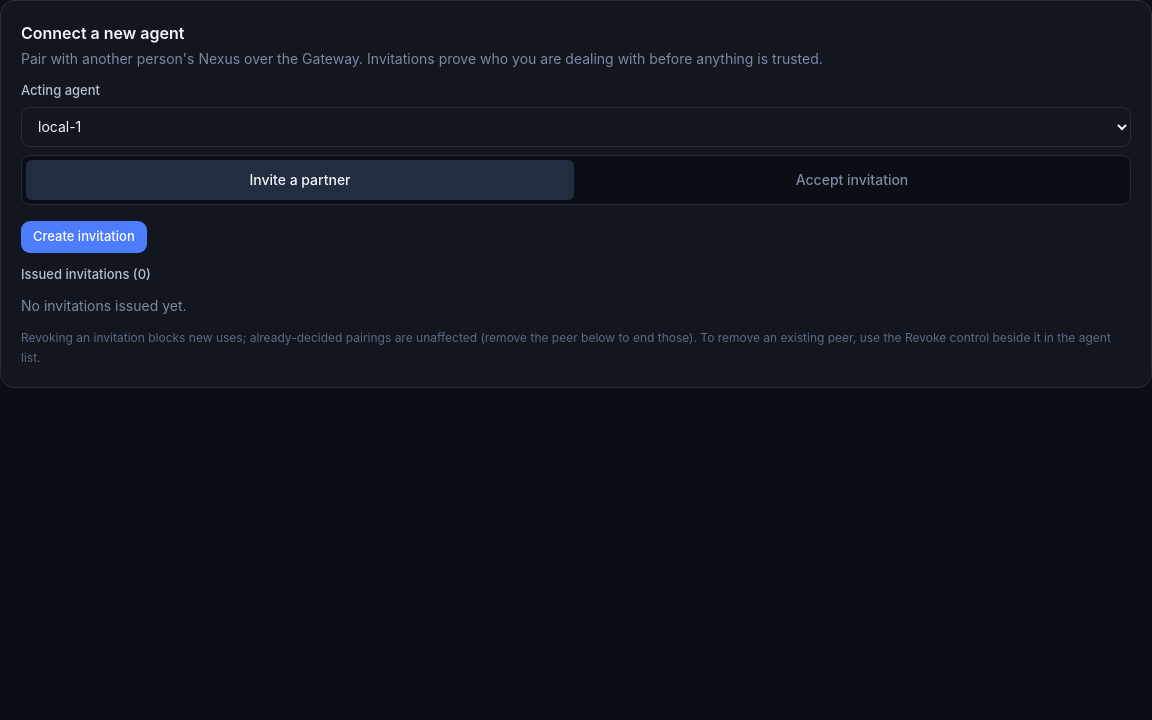
it: ConnectAgentPanel › validates an invitation and shows the identity preview
This screenshot has width=1152, height=720.
Click the tab "Accept invitation". click: click(852, 180)
box: [578,160,1126,200]
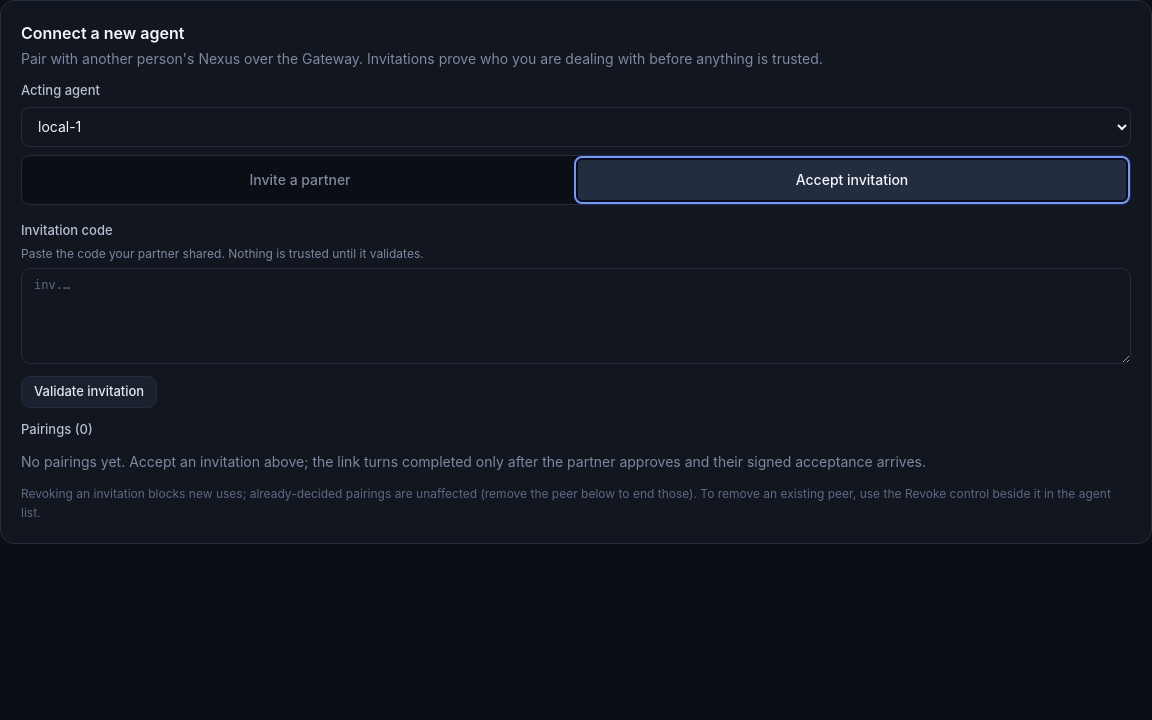
Type "inv.code.secret" into the text box with placeholder "Invitation code". click: (576, 316)
box: [21,268,1131,364]
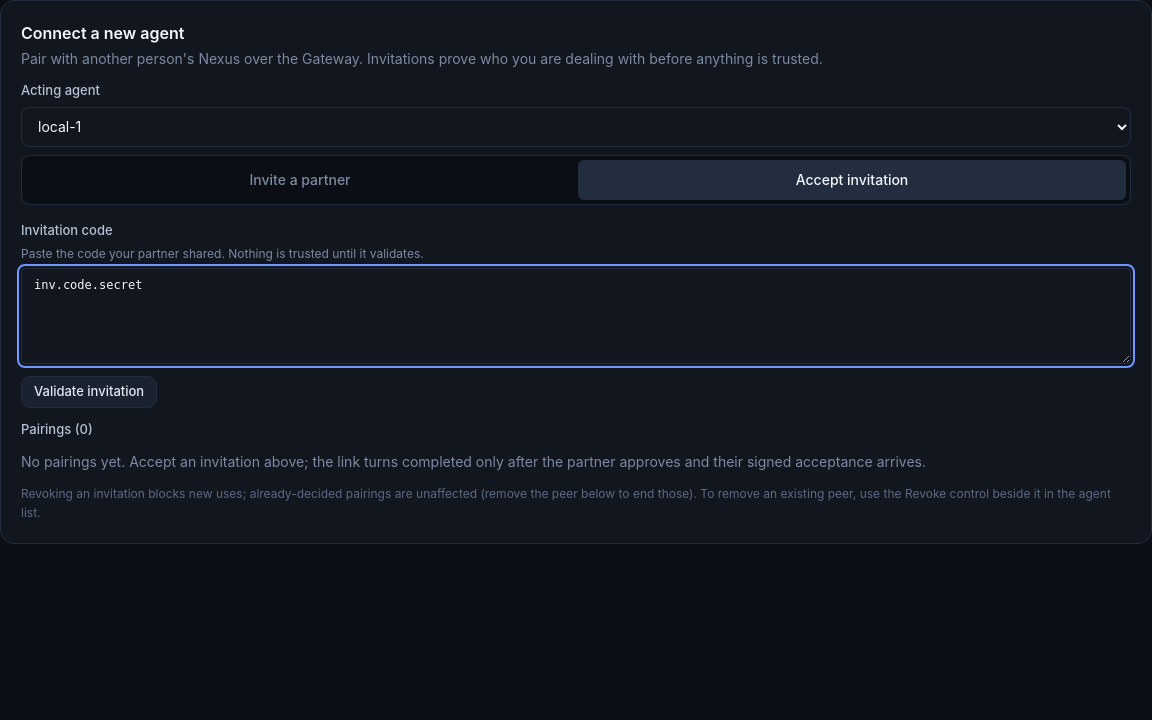
Click the button "Validate invitation". click: click(89, 392)
box: [21,376,157,408]
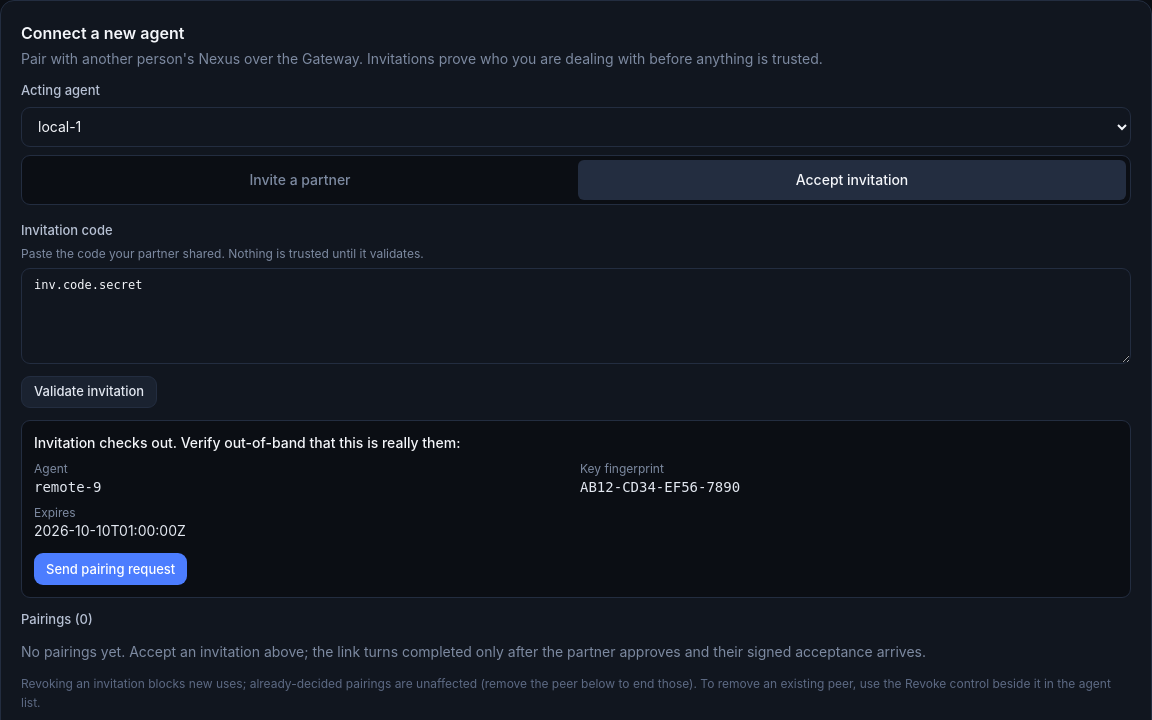
expect the text "remote-9" is shown: met, box [34,479,101,495]
expect the text "AB12-CD34-EF56-7890" is shown: met, box [580,479,740,495]
expect the button "Send pairing request" is shown: met, box [34,553,187,585]
